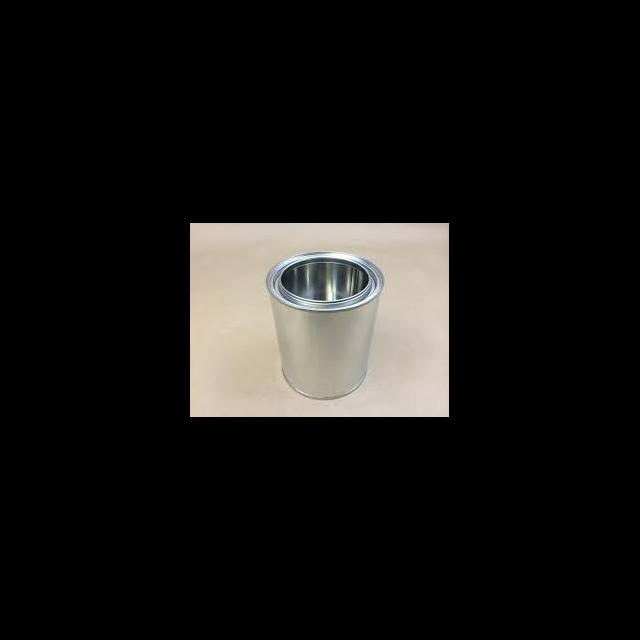metal: (264, 251, 384, 398)
